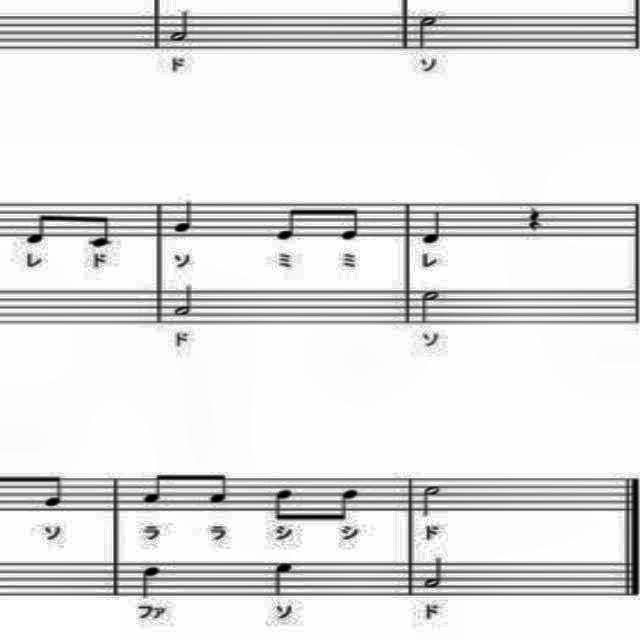Eighth-note: (23, 202, 59, 250), (274, 202, 310, 246), (330, 485, 366, 525), (84, 209, 114, 249), (142, 467, 170, 509), (204, 469, 232, 509), (270, 484, 298, 524), (338, 205, 362, 248), (42, 472, 66, 512)
Half-note: (414, 13, 448, 52), (416, 286, 444, 326), (165, 10, 195, 46), (172, 280, 196, 320), (419, 482, 441, 522), (423, 553, 445, 591)
Quarter-note: (420, 205, 448, 247), (140, 559, 164, 601), (172, 200, 196, 240), (272, 561, 296, 597)
Quarter-rest: (524, 206, 548, 234)
